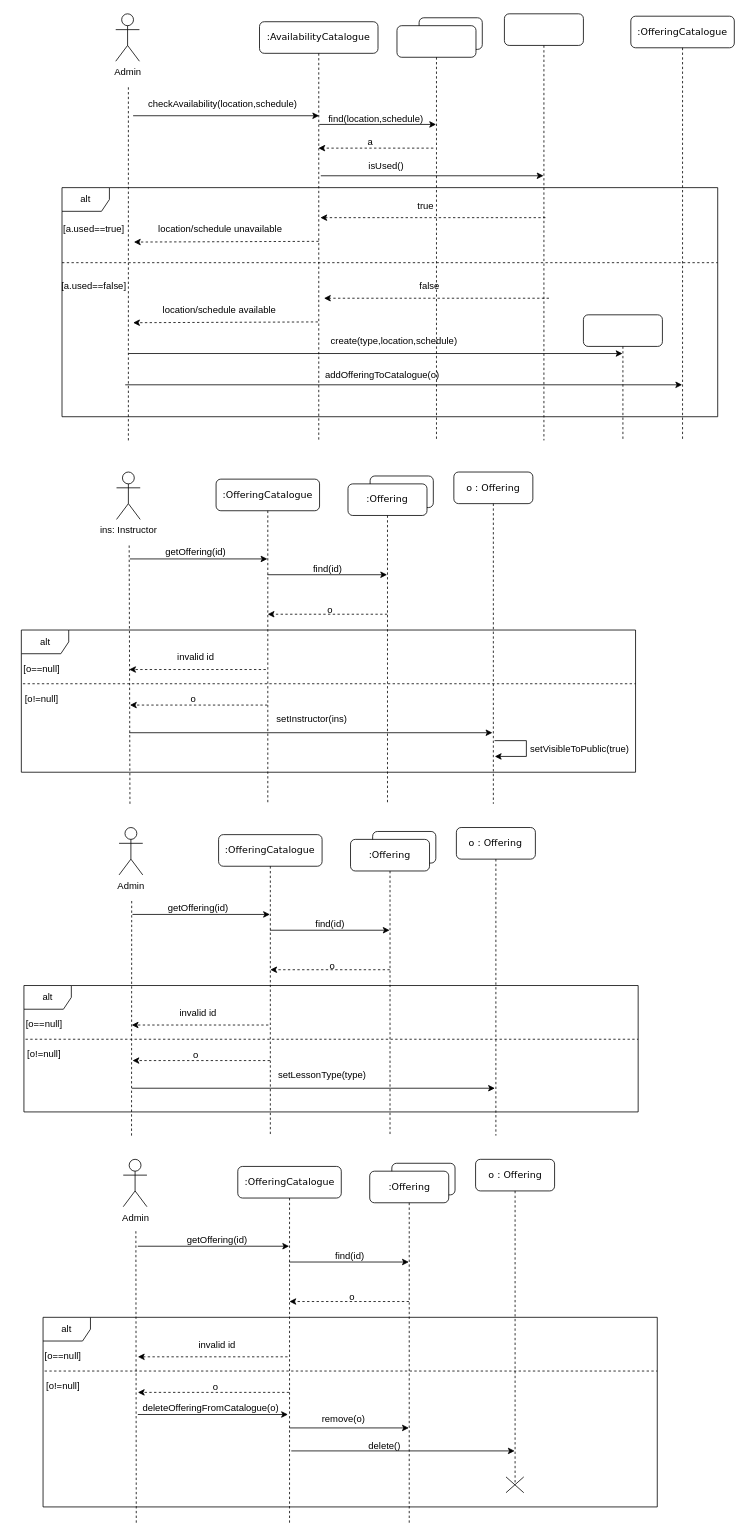
Some shapes in this 748 by 1537 pixel diagram are drawn without their labels. The box of each missing label's shape, as (x1, y1, x2, y2) in pixels:
:Availability: (396, 25, 476, 440)
a :Availability: (504, 13, 583, 440)
o :Offering: (583, 314, 662, 440)
